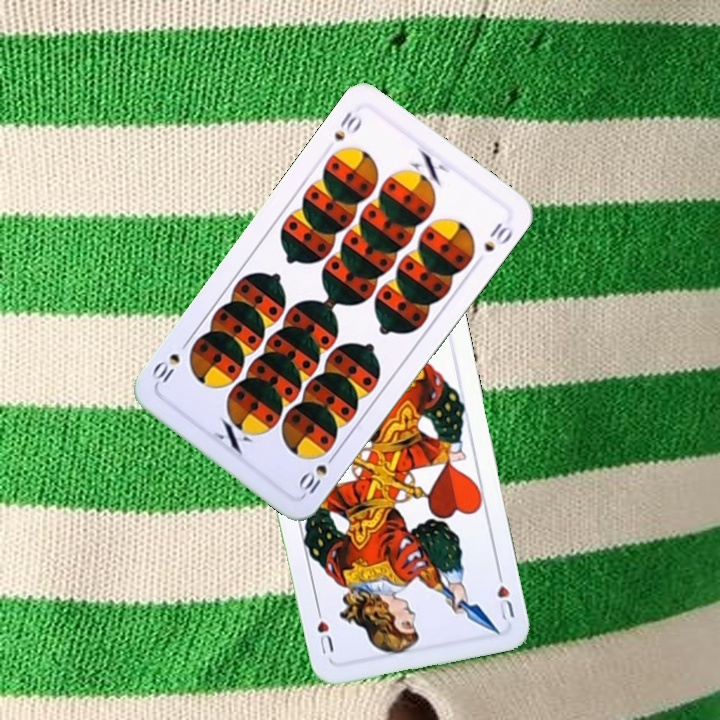HU: (493, 565, 517, 623)
S10: (295, 448, 340, 499), (330, 107, 365, 144)
